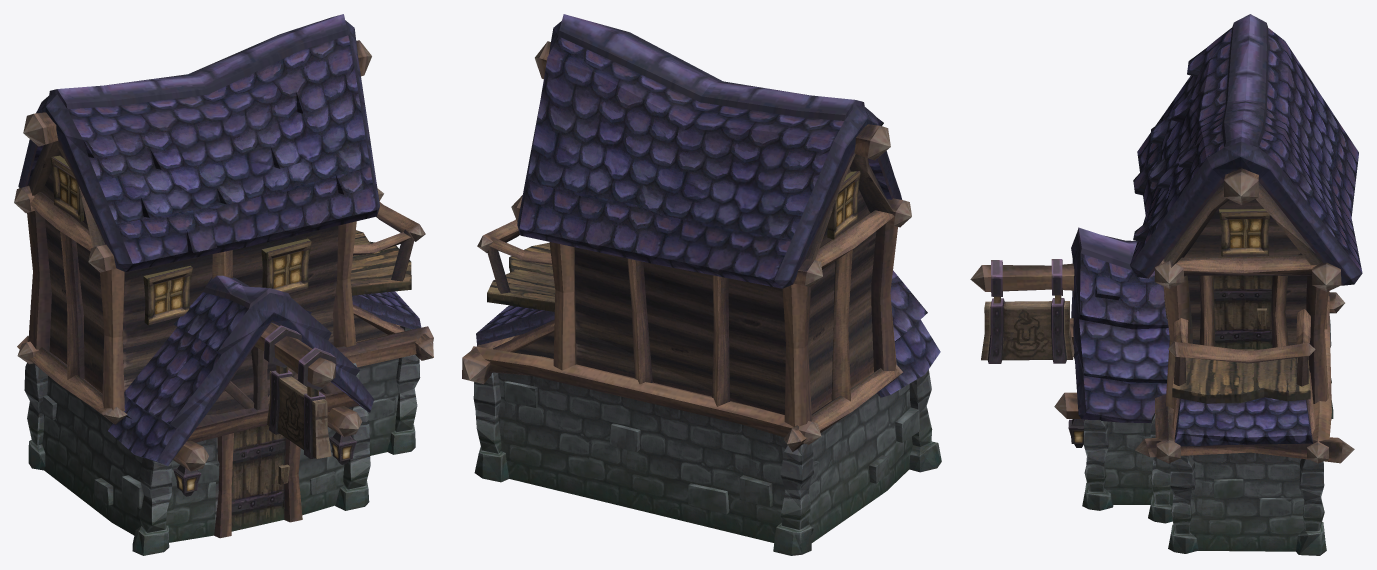
File: inn.fbx
The picture shows the model from 3 angles, left to right: view 1: azimuth 30°, elevation 25°; view 2: azimuth 150°, elevation 25°; view 3: azimuth 270°, elevation 25°; orthographic projection. The views are drawn at different scales.
Parts seen in each view (by area): view 1: obj4; view 2: obj4; view 3: obj4.
Part boxes in pixels (<box>): obj4: <box>14,14,433,555</box>; obj4: <box>462,14,941,555</box>; obj4: <box>970,14,1362,555</box>.
Size of the model in its own units: 9.11 by 9.86 by 8.79.
